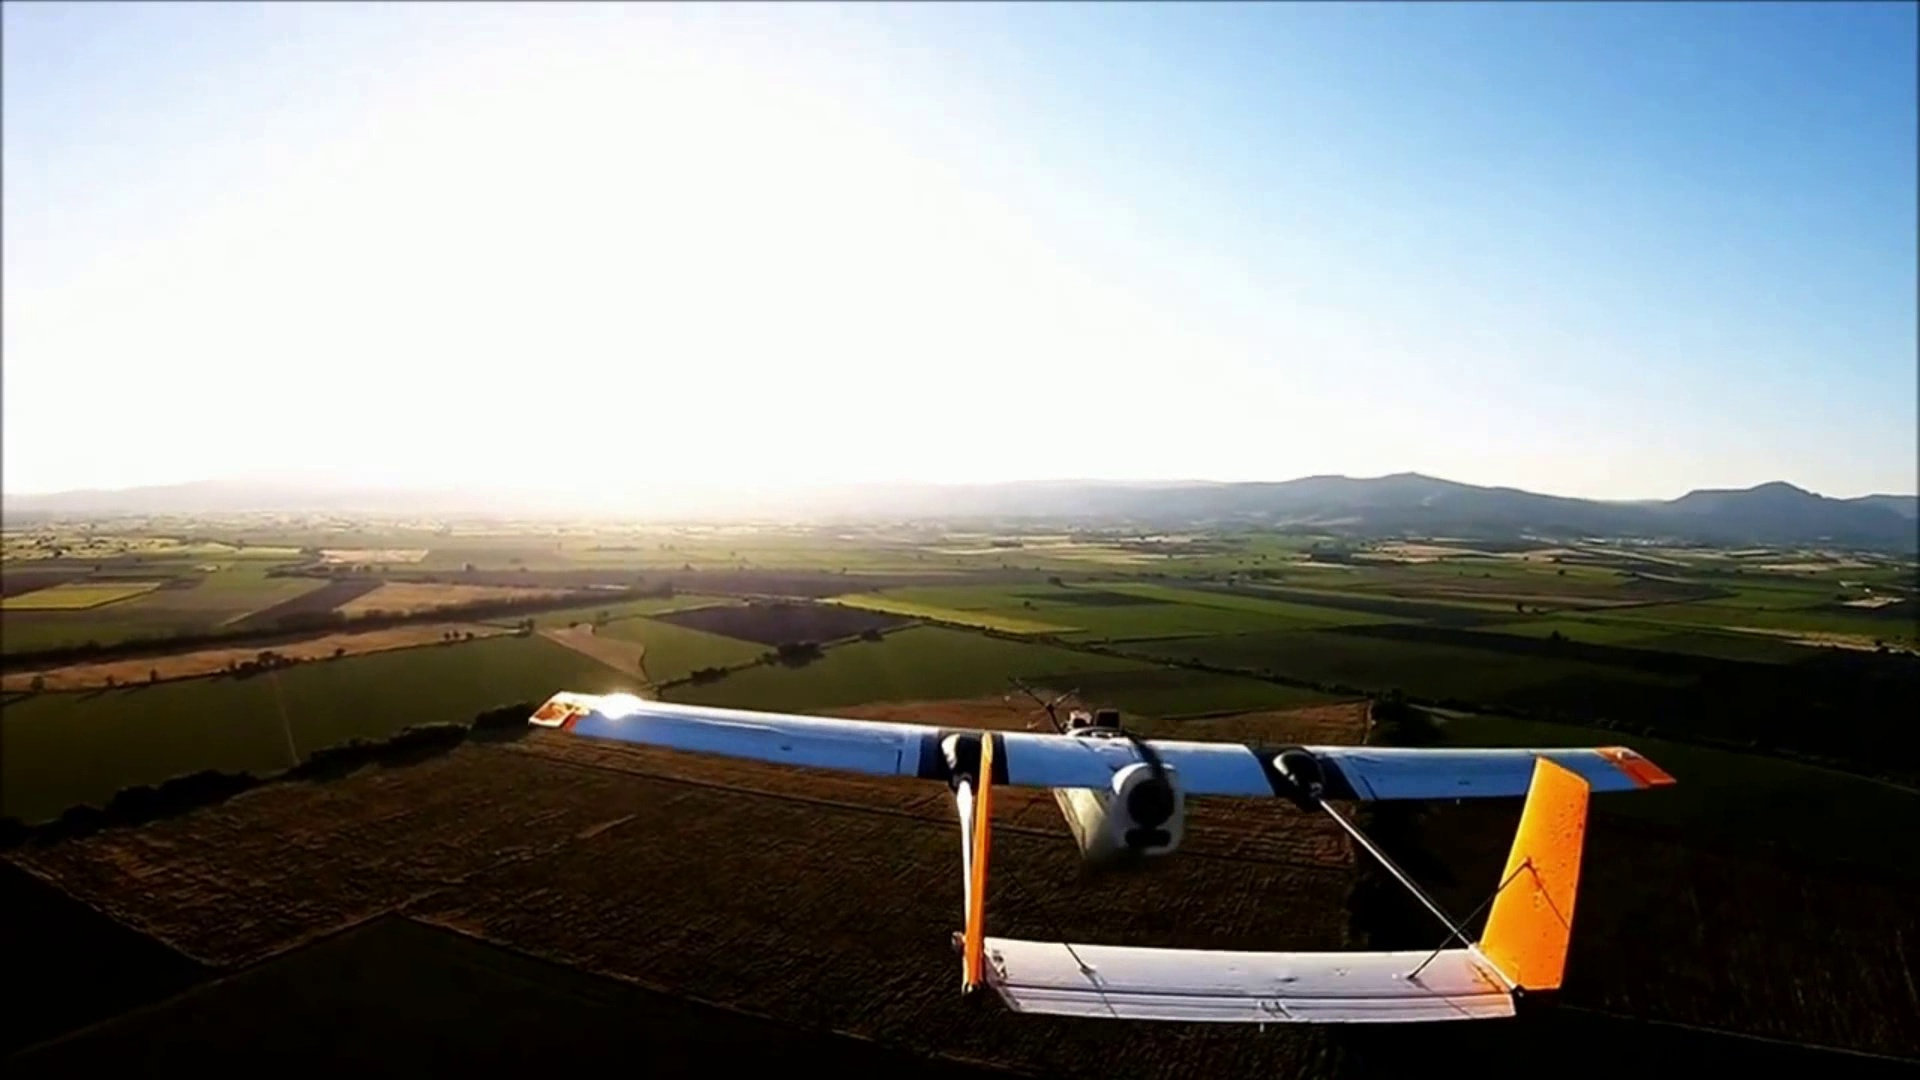airplane: (516, 709, 1672, 1025)
